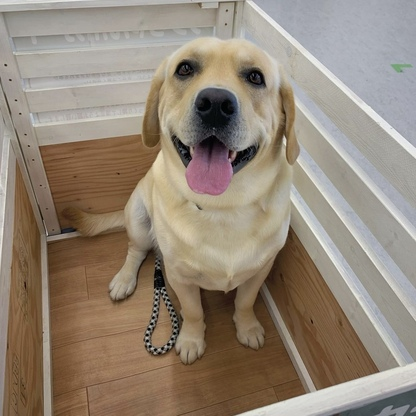labrado: (58, 30, 303, 369)
